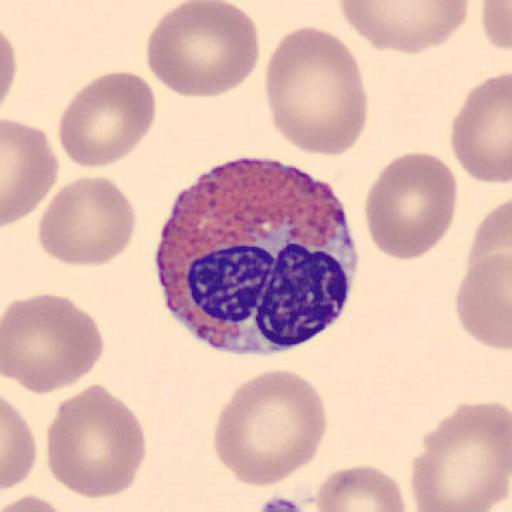RBC: (264, 24, 369, 158), (212, 367, 328, 488), (45, 382, 148, 500), (146, 0, 261, 99), (411, 400, 512, 512), (2, 291, 106, 396), (363, 150, 458, 262), (58, 70, 157, 170), (38, 173, 137, 268), (455, 199, 512, 352), (340, 0, 471, 55), (449, 70, 512, 184), (1, 117, 60, 227), (453, 253, 512, 351), (311, 462, 406, 512), (464, 195, 512, 290), (1, 396, 37, 492), (480, 0, 512, 52), (0, 491, 73, 512), (0, 28, 18, 107)
WBC: (153, 156, 360, 356)
